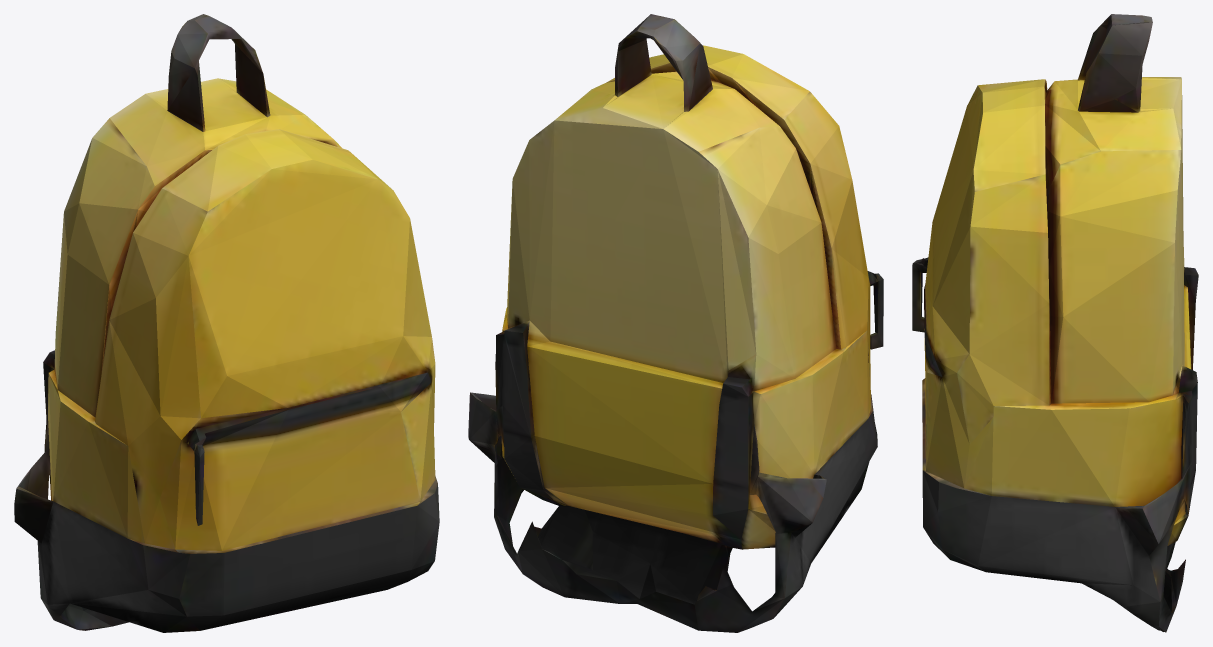
The model's file is backpack.glb.
3 renders of one model, left to right at view 1: azimuth 30°, elevation 25°; view 2: azimuth 150°, elevation 25°; view 3: azimuth 270°, elevation 25°, orthographic. The views are drawn at different scales.
Parts seen in each view (by area): view 1: geometry_0; view 2: geometry_0; view 3: geometry_0.
Part boxes in pixels (x1=…): geometry_0: x1=14, y1=14, x2=439, y2=632; geometry_0: x1=468, y1=14, x2=883, y2=632; geometry_0: x1=912, y1=14, x2=1198, y2=632.
Size of the model in its own units: 0.6402 by 0.9881 by 0.4496.
Materials: 1 (1 with a texture image).
